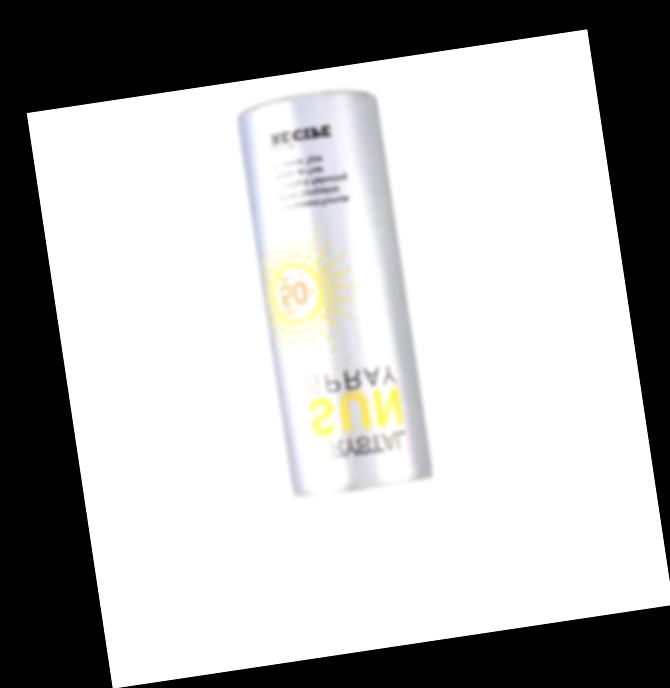cosmetic: (235, 84, 458, 631)
